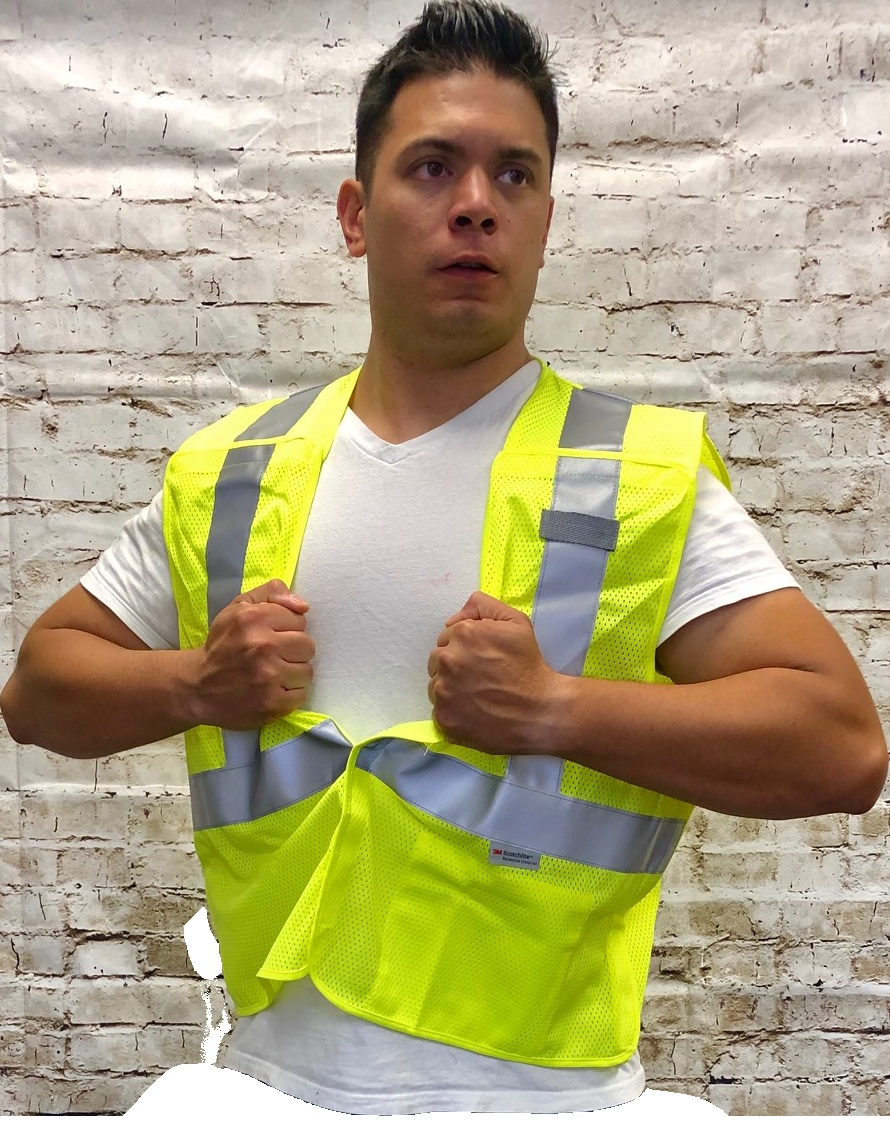person with partial safety: (91, 6, 775, 1113)
safety vest: (163, 365, 704, 1073)
